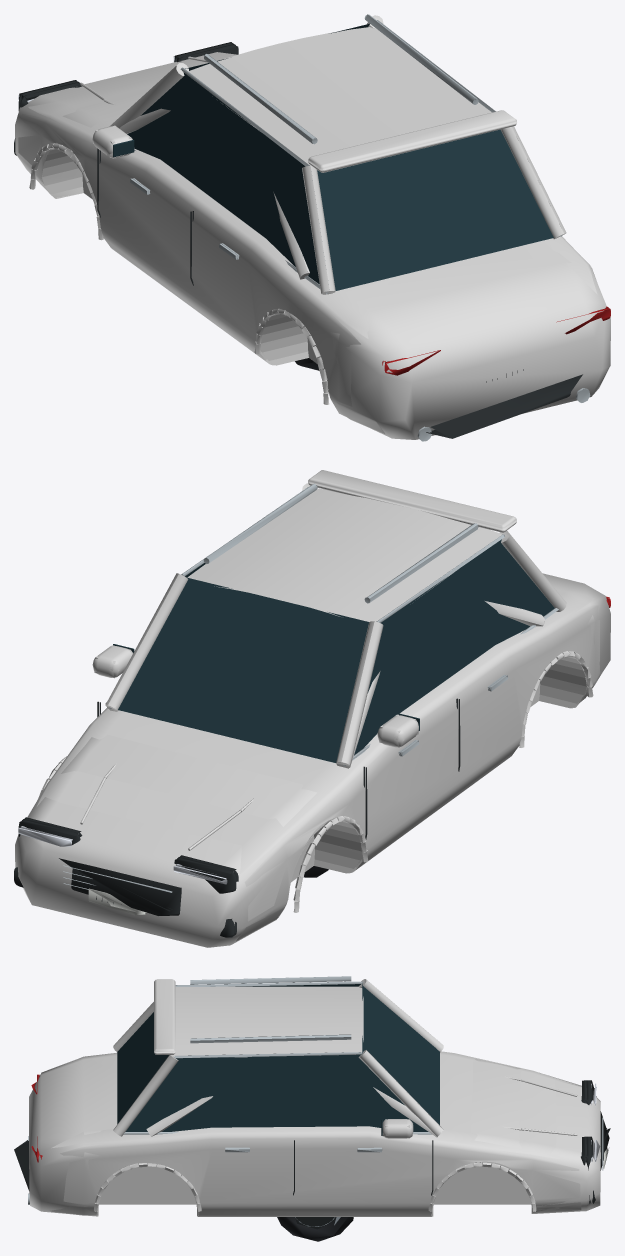
File: vehicles-lod.glb
3 renders of one model, top to bottom at view 1: azimuth 30°, elevation 25°; view 2: azimuth 150°, elevation 25°; view 3: azimuth 270°, elevation 25°, orthographic. The views are drawn at different scales.
Parts seen in each view (by area): view 1: suv__paint__lod0, sedan__paint__lod0, suv__glass__lod0, sedan__trim__lod0, suv__chrome__lod0, suv__trim__lod0, sedan__tail__lod0; view 2: suv__paint__lod0, suv__glass__lod0, sedan__paint__lod0, sedan__trim__lod0, suv__chrome__lod0, suv__trim__lod0, sedan__lamps__lod0; view 3: suv__paint__lod0, suv__glass__lod0, sedan__paint__lod0, suv__chrome__lod0, sedan__trim__lod0, wheel__rubber__lod0, suv__trim__lod0, wheel__trim__lod0.
Boxes of the visible parts, bbox=[...] form: suv__paint__lod0: bbox=[18, 15, 597, 434]; sedan__paint__lod0: bbox=[15, 52, 610, 439]; suv__glass__lod0: bbox=[113, 23, 553, 290]; sedan__trim__lod0: bbox=[14, 42, 582, 438]; suv__chrome__lod0: bbox=[130, 14, 562, 293]; suv__trim__lod0: bbox=[21, 43, 436, 433]; sedan__tail__lod0: bbox=[384, 307, 610, 375]; suv__paint__lod0: bbox=[37, 470, 600, 941]; suv__glass__lod0: bbox=[113, 539, 554, 762]; sedan__paint__lod0: bbox=[15, 573, 610, 947]; sedan__trim__lod0: bbox=[14, 698, 457, 937]; suv__chrome__lod0: bbox=[181, 483, 558, 759]; suv__trim__lod0: bbox=[22, 699, 460, 935]; sedan__lamps__lod0: bbox=[18, 827, 227, 884]; suv__paint__lod0: bbox=[50, 979, 581, 1216]; suv__glass__lod0: bbox=[117, 984, 439, 1135]; sedan__paint__lod0: bbox=[29, 1016, 600, 1216]; suv__chrome__lod0: bbox=[123, 976, 382, 1152]; sedan__trim__lod0: bbox=[14, 1080, 610, 1203]; wheel__rubber__lod0: bbox=[277, 1217, 353, 1241]; suv__trim__lod0: bbox=[293, 1080, 606, 1203]; wheel__trim__lod0: bbox=[294, 1217, 336, 1229].
Size of what is drawn, in the model's own units: 2.21 by 2.14 by 4.92.
